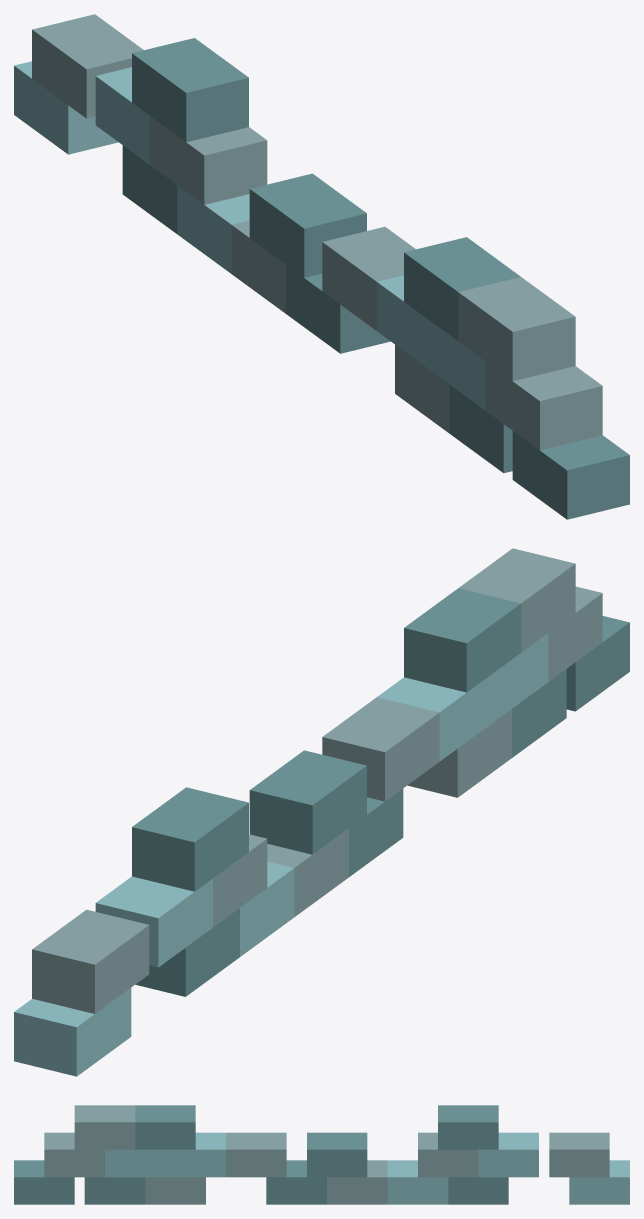
The model's file is wall.obj.
3 views of the same model, one above another, from view 1: azimuth 30°, elevation 25°; view 2: azimuth 150°, elevation 25°; view 3: azimuth 270°, elevation 25° (orthographic). The views are drawn at different scales.
Bounding box in the file's own units: 0.4 × 0.9 × 6.1.
1 material, 1 textured.
